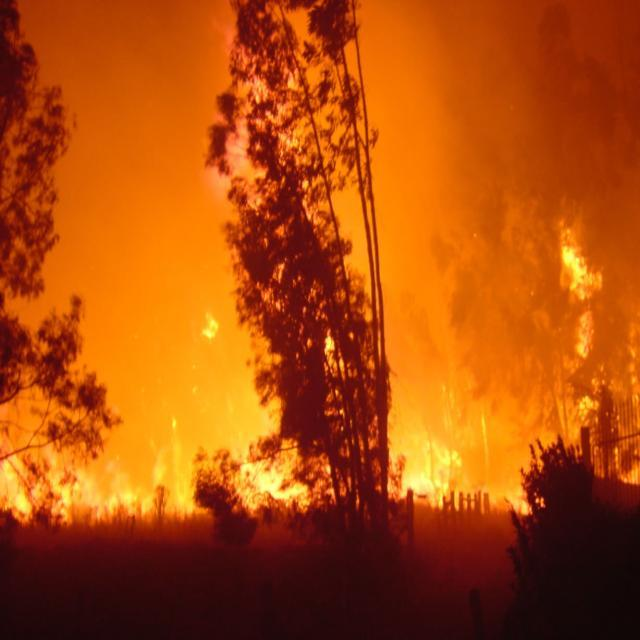Fire: (0, 239, 639, 517)
Smoke: (0, 0, 629, 322)
